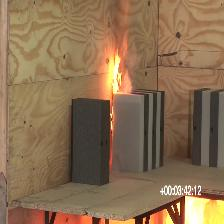fire: (111, 33, 132, 93)
